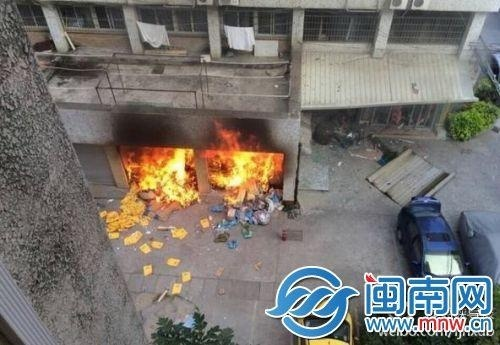fire: (113, 118, 287, 204)
